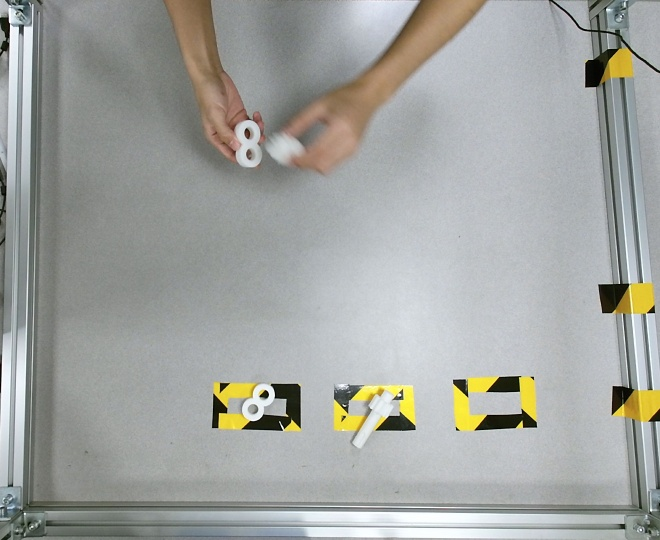stage_1: (234, 119, 262, 166)
